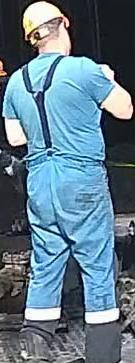helmet: (21, 0, 64, 41)
